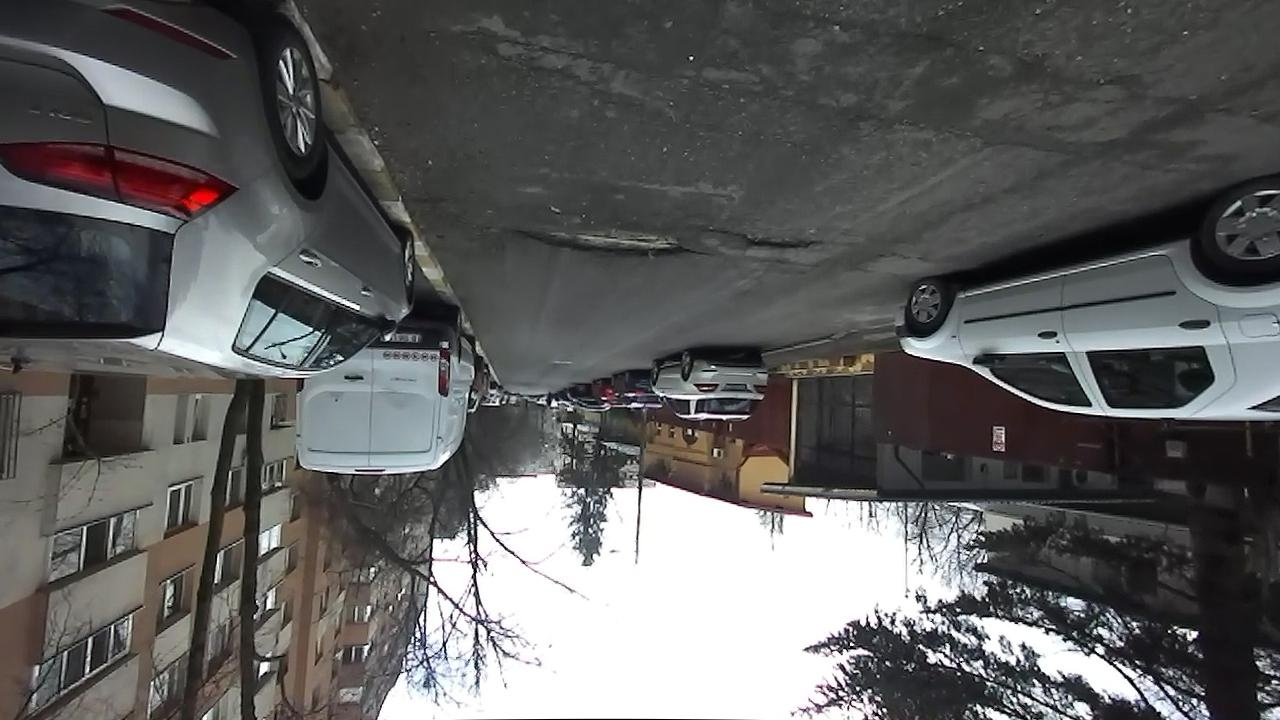pothole: (504, 222, 701, 262), (714, 222, 823, 253)
